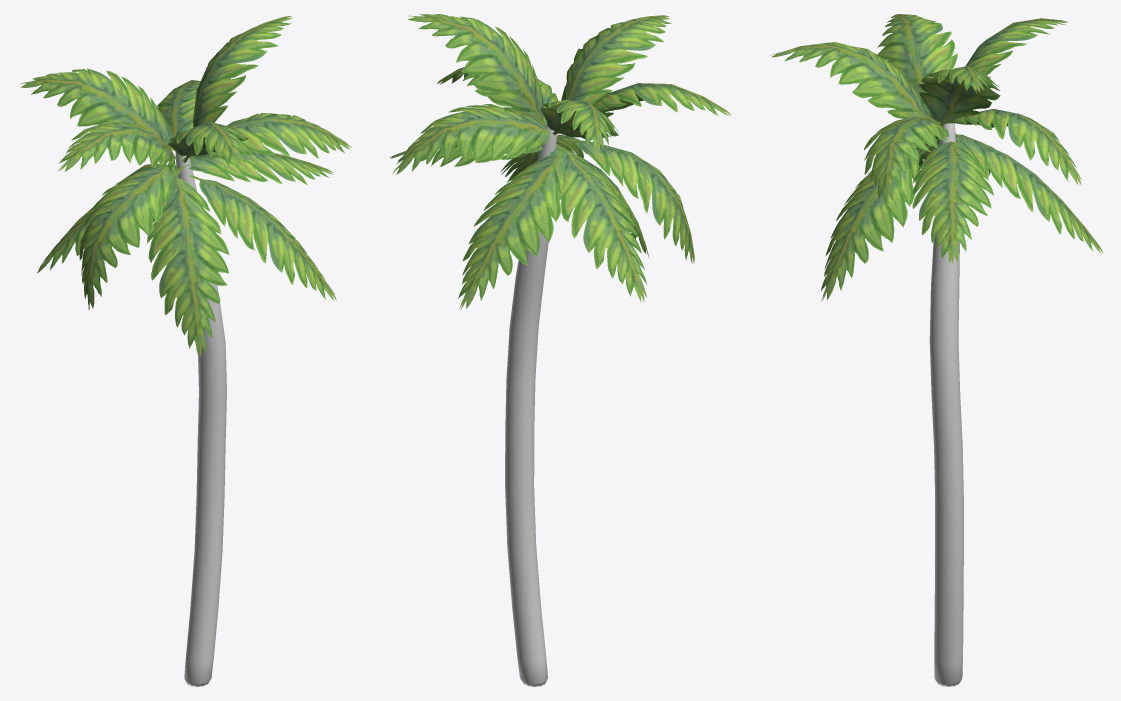
File: SM_Palm.fbx
3 renders of one model, left to right at view 1: azimuth 30°, elevation 25°; view 2: azimuth 150°, elevation 25°; view 3: azimuth 270°, elevation 25°, orthographic. The views are drawn at different scales.
Parts seen in each view (by area): view 1: SM_TreePalm; view 2: SM_TreePalm; view 3: SM_TreePalm.
Part boxes in pixels (<box>): SM_TreePalm: <box>20,16,351,686</box>; SM_TreePalm: <box>389,14,731,686</box>; SM_TreePalm: <box>769,14,1103,686</box>.
Bounding box in the file's own units: 724 × 1411 × 676.
